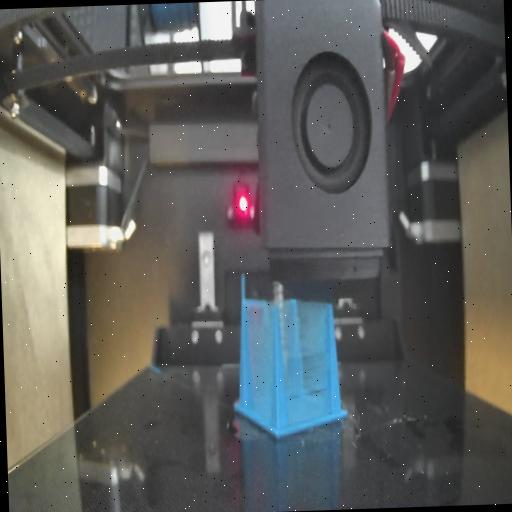stringing: (280, 302, 333, 428), (240, 300, 276, 426)
